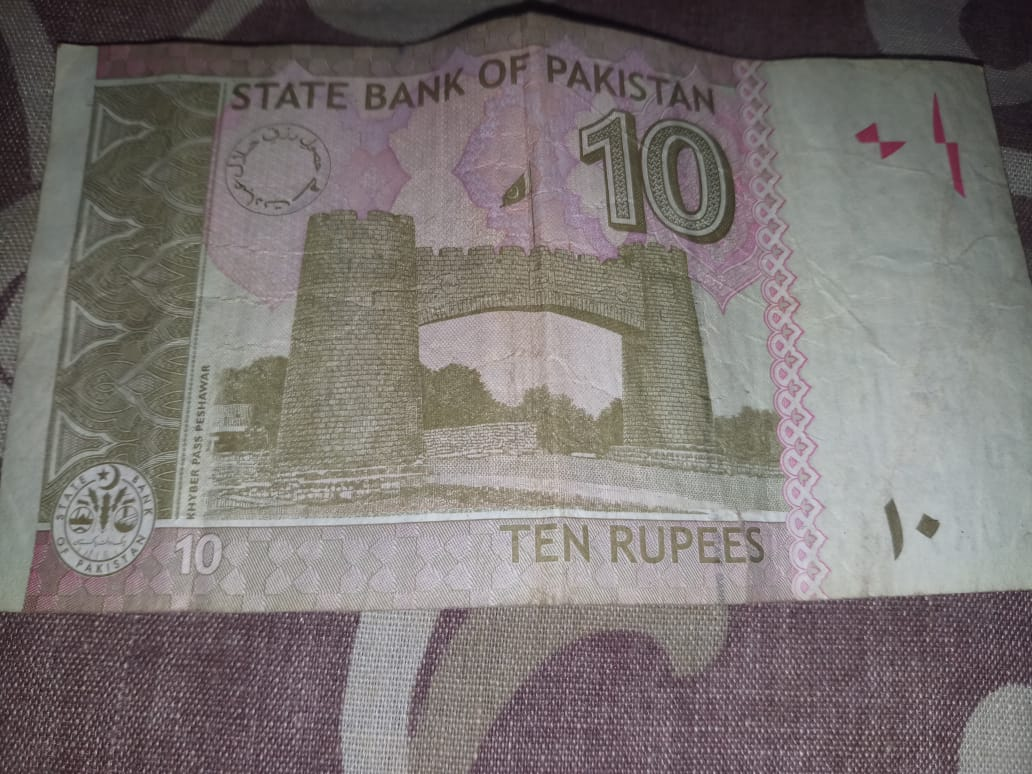10 rupee: (1, 20, 1027, 618)
